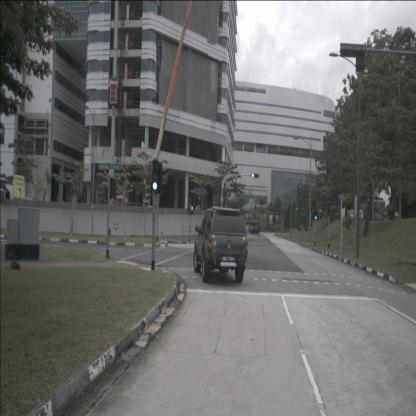vehicle-car: (194, 208, 249, 282)
vehicle-truck: (252, 218, 260, 235)
